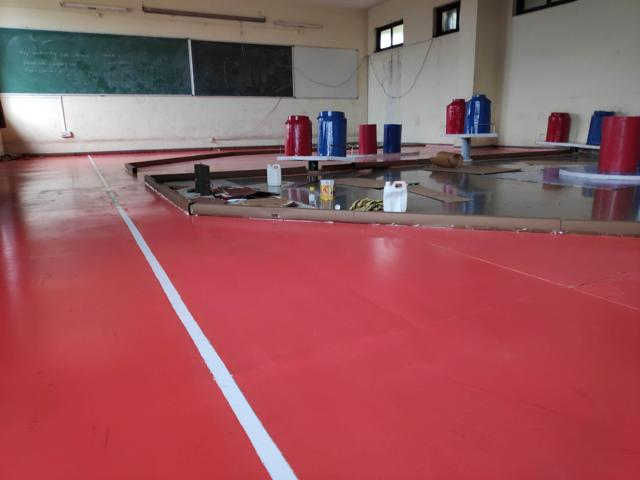Blue: (317, 110, 349, 157), (467, 93, 492, 135), (383, 122, 402, 154), (586, 107, 599, 147)
Red: (598, 114, 640, 173), (285, 114, 314, 156), (545, 111, 572, 143), (447, 96, 467, 136), (359, 121, 377, 153)
